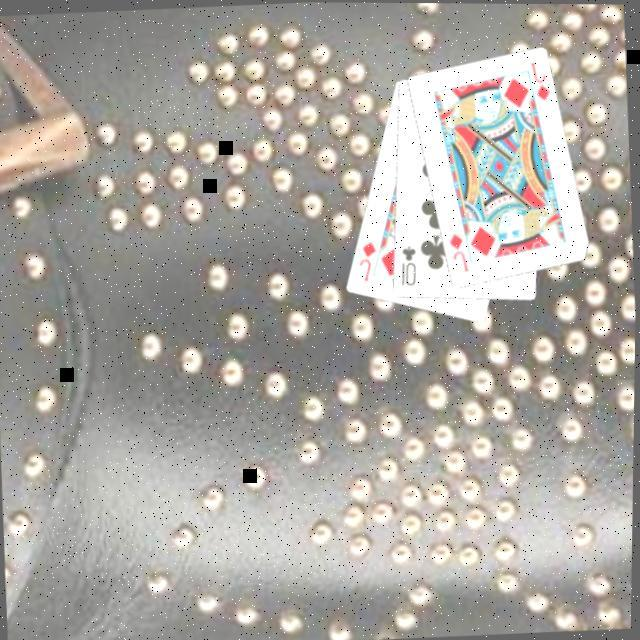10C: (394, 240, 419, 288)
JD: (442, 228, 472, 274), (524, 56, 552, 103), (353, 236, 380, 284)
